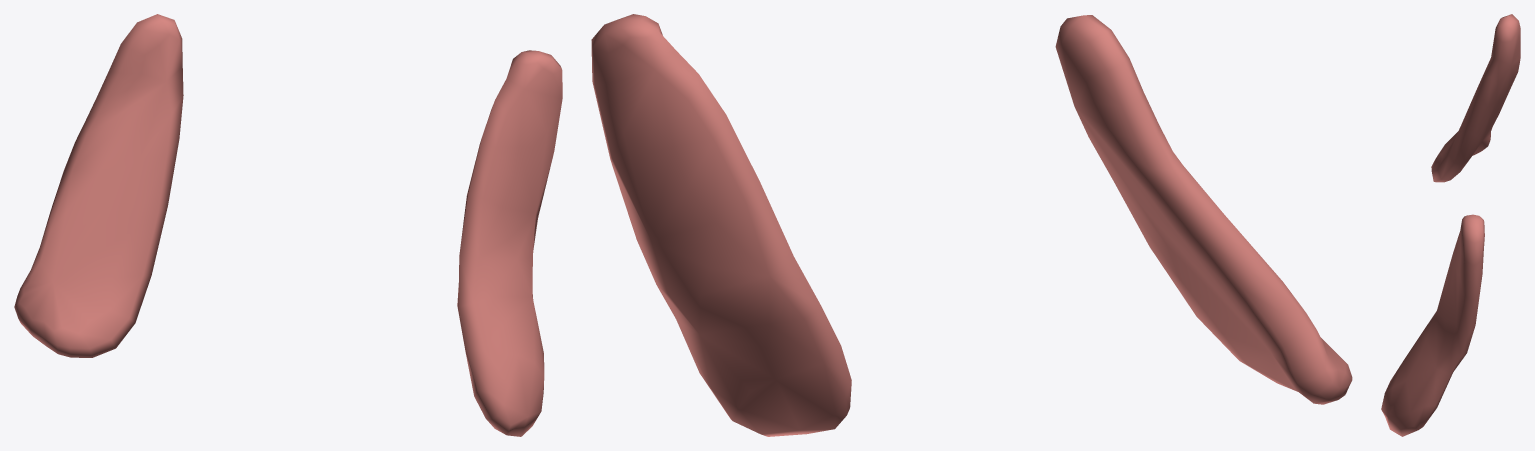
3 renders of one model, left to right at view 1: azimuth 30°, elevation 25°; view 2: azimuth 150°, elevation 25°; view 3: azimuth 270°, elevation 25°, orthographic. The views are drawn at different scales.
Parts seen in each view (by area): view 1: ZA_cc33ac042d001100; view 2: ZA_cc33ac042d001100; view 3: ZA_cc33ac042d001100.
Boxes of the visible parts, x1,y1,x2,y2 form: ZA_cc33ac042d001100: (14, 14, 562, 436); ZA_cc33ac042d001100: (591, 14, 1352, 436); ZA_cc33ac042d001100: (1381, 14, 1520, 436).
Size of the model in its own units: 0.00904 by 0.00689 by 0.00278.
